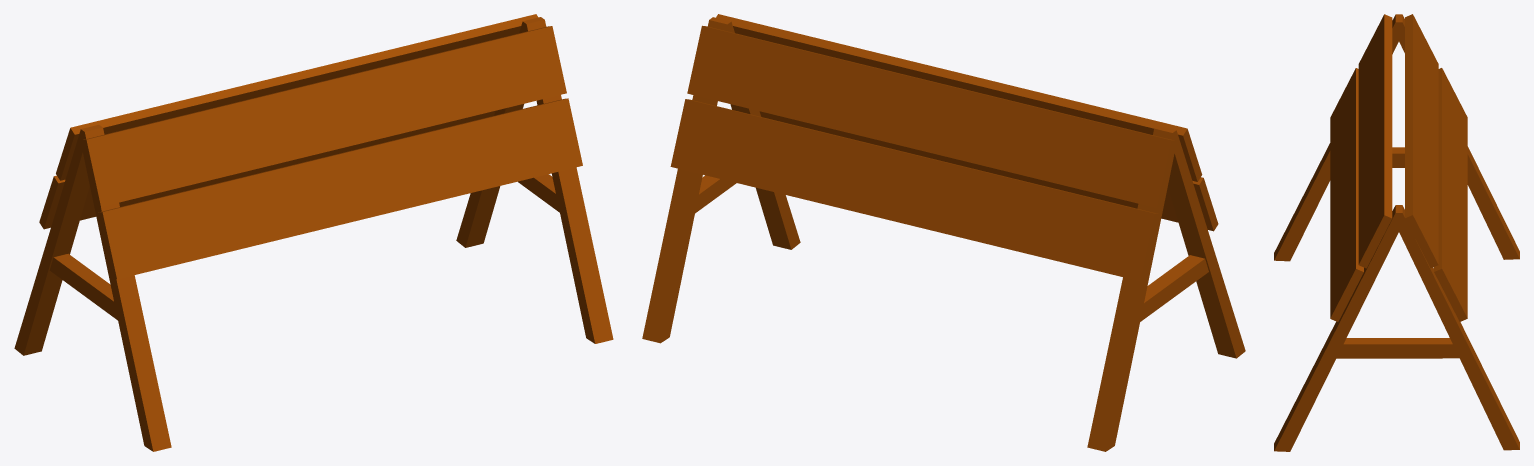
Rendered from WoodBarrier.DAE.
3 views of the same model, side by side, from view 1: azimuth 30°, elevation 25°; view 2: azimuth 150°, elevation 25°; view 3: azimuth 270°, elevation 25° (orthographic). The views are drawn at different scales.
Parts seen in each view (by area): view 1: WoodBarrier; view 2: WoodBarrier; view 3: WoodBarrier.
Part boxes in pixels (x1=…): WoodBarrier: x1=14, y1=14, x2=613, y2=451; WoodBarrier: x1=642, y1=14, x2=1245, y2=451; WoodBarrier: x1=1274, y1=14, x2=1519, y2=451.
Bounding box in the file's own units: 2.41 × 1.34 × 1.25.
